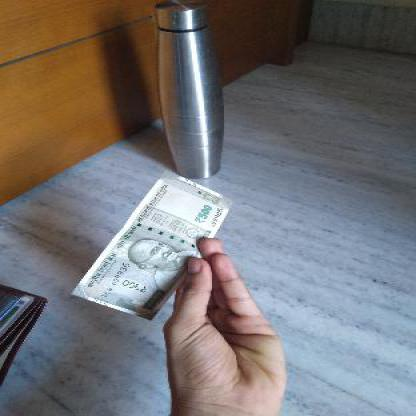New500Front: (78, 168, 226, 305)
